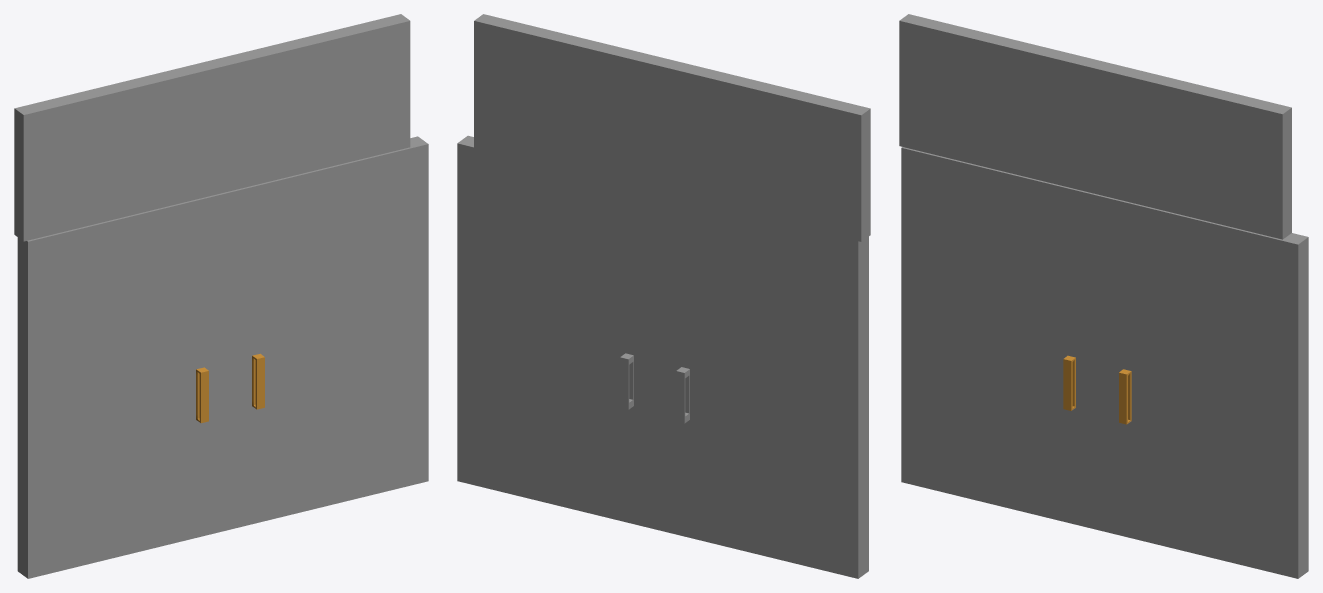
File: Double_Doors.fbx
The picture shows the model from 3 angles, left to right: view 1: azimuth 30°, elevation 25°; view 2: azimuth 150°, elevation 25°; view 3: azimuth 330°, elevation 25°; orthographic projection.
Visible parts, largest first — view 1: Door_6; view 2: Door_6; view 3: Door_6.
Boxes of the visible parts, x1,y1,x2,y2 form: Door_6: [14, 14, 428, 578]; Door_6: [457, 14, 870, 578]; Door_6: [899, 14, 1308, 578].
Size of the model in its own units: 2.5 by 2.75 by 0.2222.
1 material, 1 textured.
